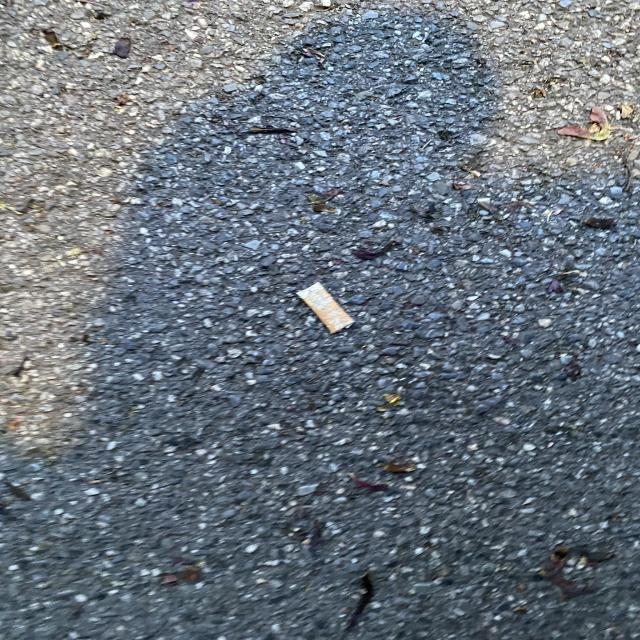other waste: (295, 281, 355, 334)
